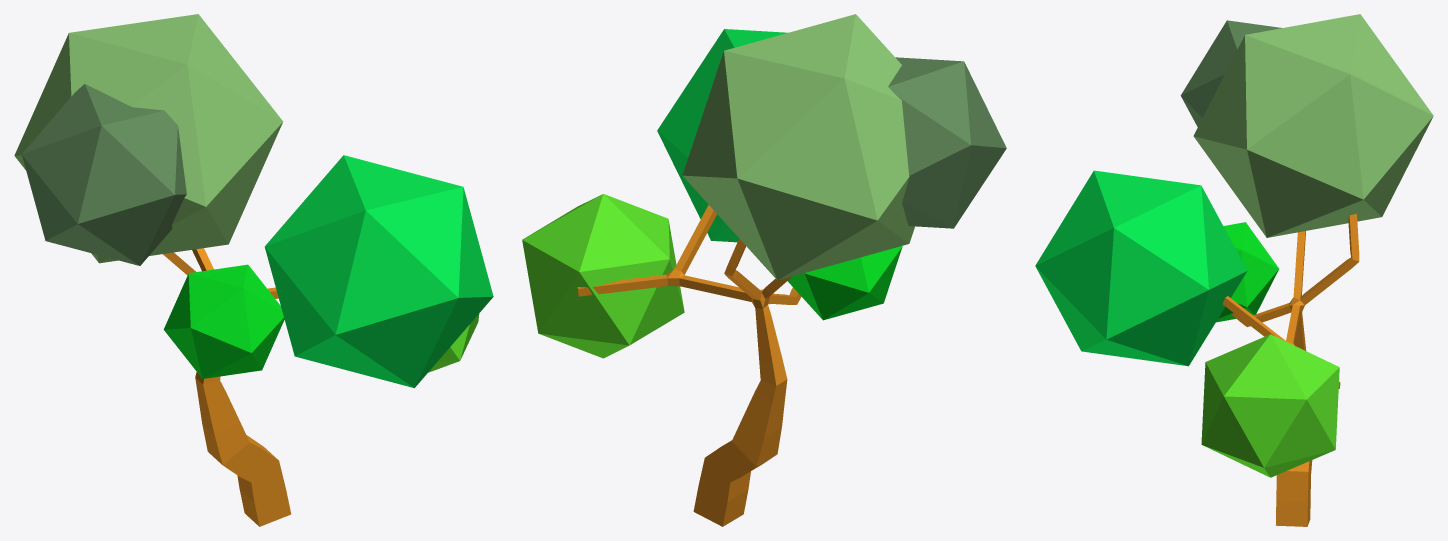
The model's file is Mountain One Tree.fbx.
3 views of the same model, side by side, from view 1: azimuth 30°, elevation 25°; view 2: azimuth 150°, elevation 25°; view 3: azimuth 270°, elevation 25° (orthographic). The views are drawn at different scales.
Parts seen in each view (by area): view 1: Cube.003; view 2: Cube.003; view 3: Cube.003.
Part boxes in pixels (left/top/right/bottom): Cube.003: left=14, top=14, right=493, bottom=526; Cube.003: left=522, top=14, right=1006, bottom=526; Cube.003: left=1035, top=14, right=1433, bottom=526.
Size of the model in its own units: 129 by 139 by 113.
